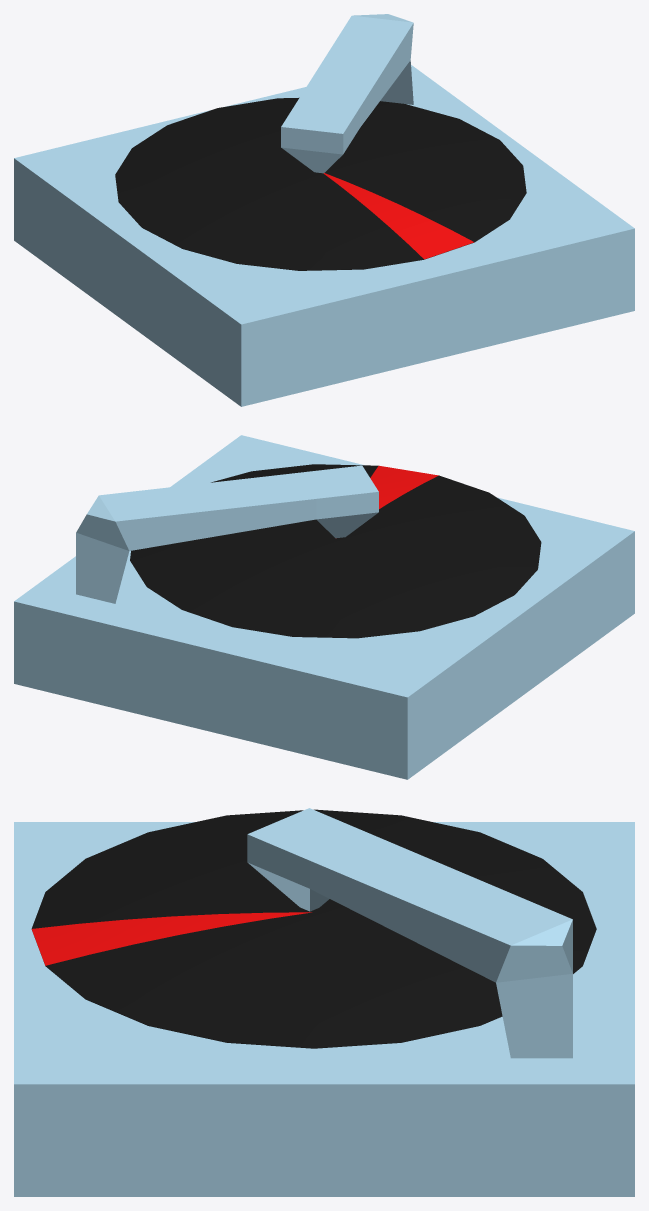
Rendered from gramofon.FBX.
The picture shows the model from 3 angles, top to bottom: view 1: azimuth 30°, elevation 25°; view 2: azimuth 150°, elevation 25°; view 3: azimuth 270°, elevation 25°; orthographic projection. The views are drawn at different scales.
Parts seen in each view (by area): view 1: Box001, OilTank001; view 2: Box001, OilTank001; view 3: Box001, OilTank001.
Boxes of the visible parts, bbox=[...] form: Box001: bbox=[14, 14, 634, 406]; OilTank001: bbox=[115, 97, 526, 270]; Box001: bbox=[14, 435, 634, 779]; OilTank001: bbox=[130, 464, 541, 638]; Box001: bbox=[14, 808, 634, 1196]; OilTank001: bbox=[31, 809, 596, 1048].
Bounding box in the file's own units: 40.58 × 16.23 × 40.58.
